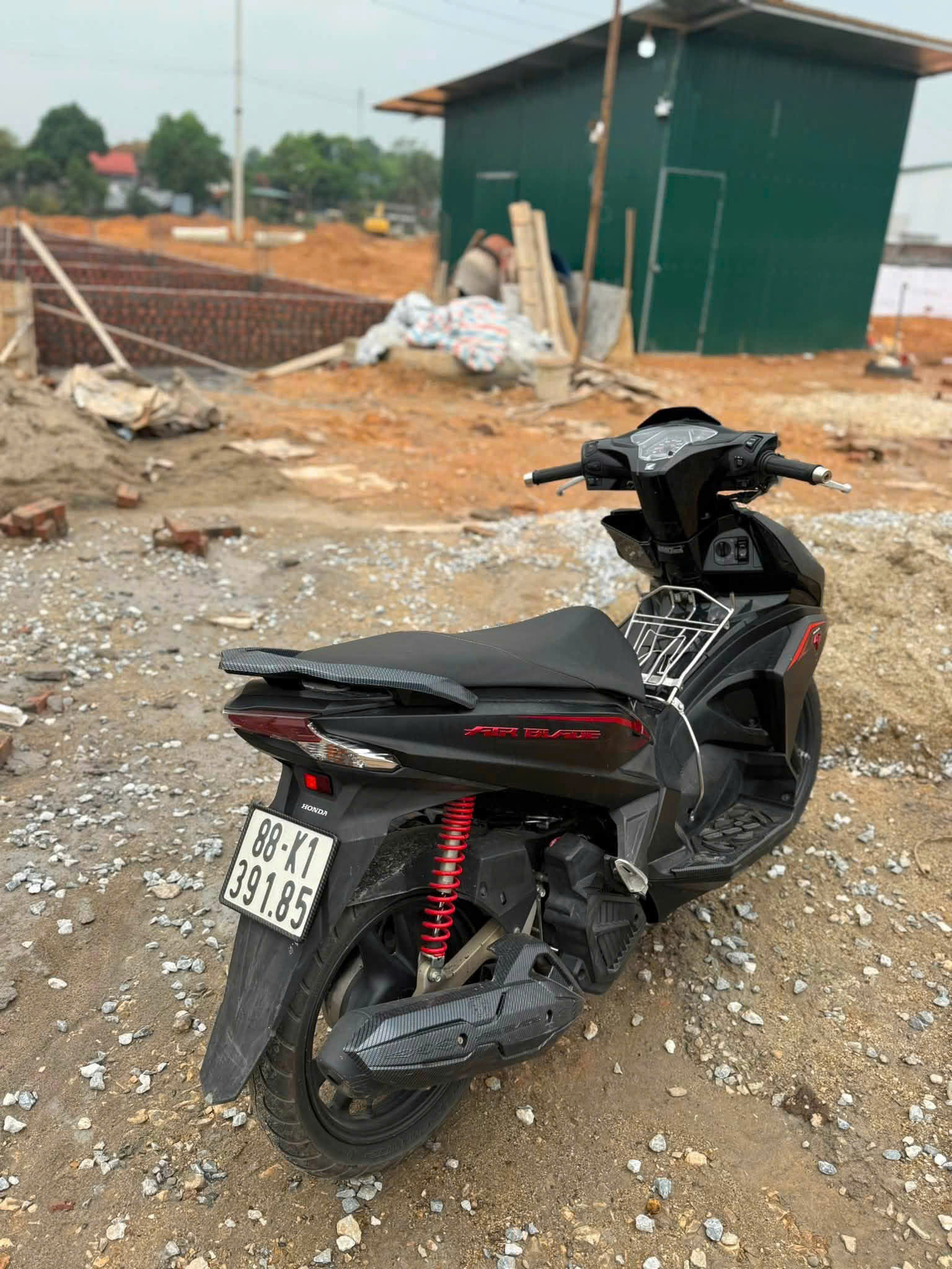Bien-so: (219, 804, 337, 937)
